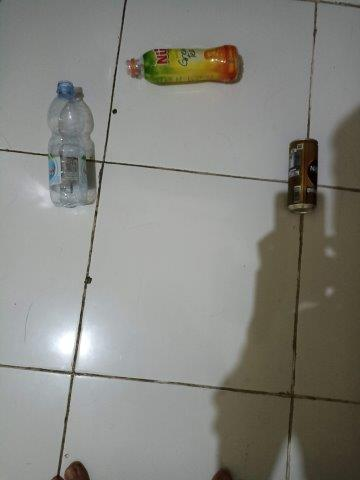botolplastik: (48, 81, 88, 208), (125, 44, 240, 85)
kaleng: (287, 137, 319, 214)
